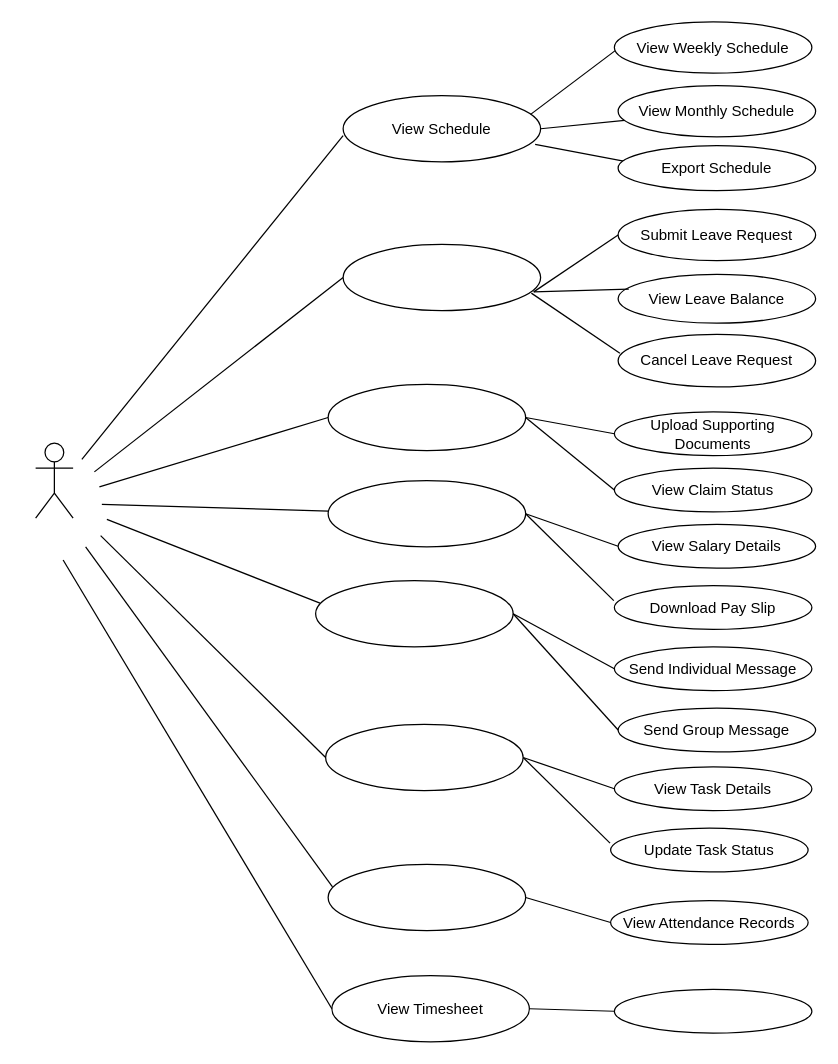
The diagram is 838 pixels wide and 1064 high, and some of its shapes have lost their labels. Each missing label, with the box of its shape:
Clock In/Out (via Mobile App): (327, 863, 526, 931)
Download Timesheet: (613, 988, 812, 1033)
Employee: (34, 442, 73, 518)
Manage Leave: (342, 243, 541, 311)
Send Messages (via Mobile App): (314, 579, 513, 647)
Submit Claims: (327, 383, 526, 451)
Track Tasks: (324, 723, 523, 791)
View Payroll Information: (327, 479, 526, 547)
